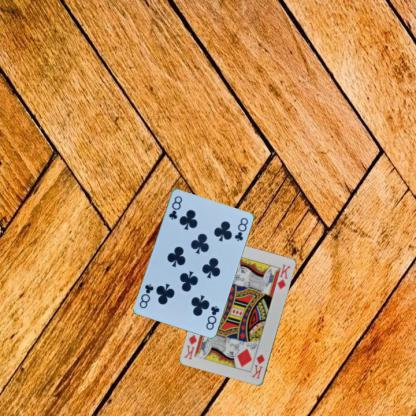8c: (203, 303, 221, 331), (166, 193, 183, 221)
Kd: (249, 352, 266, 380)
